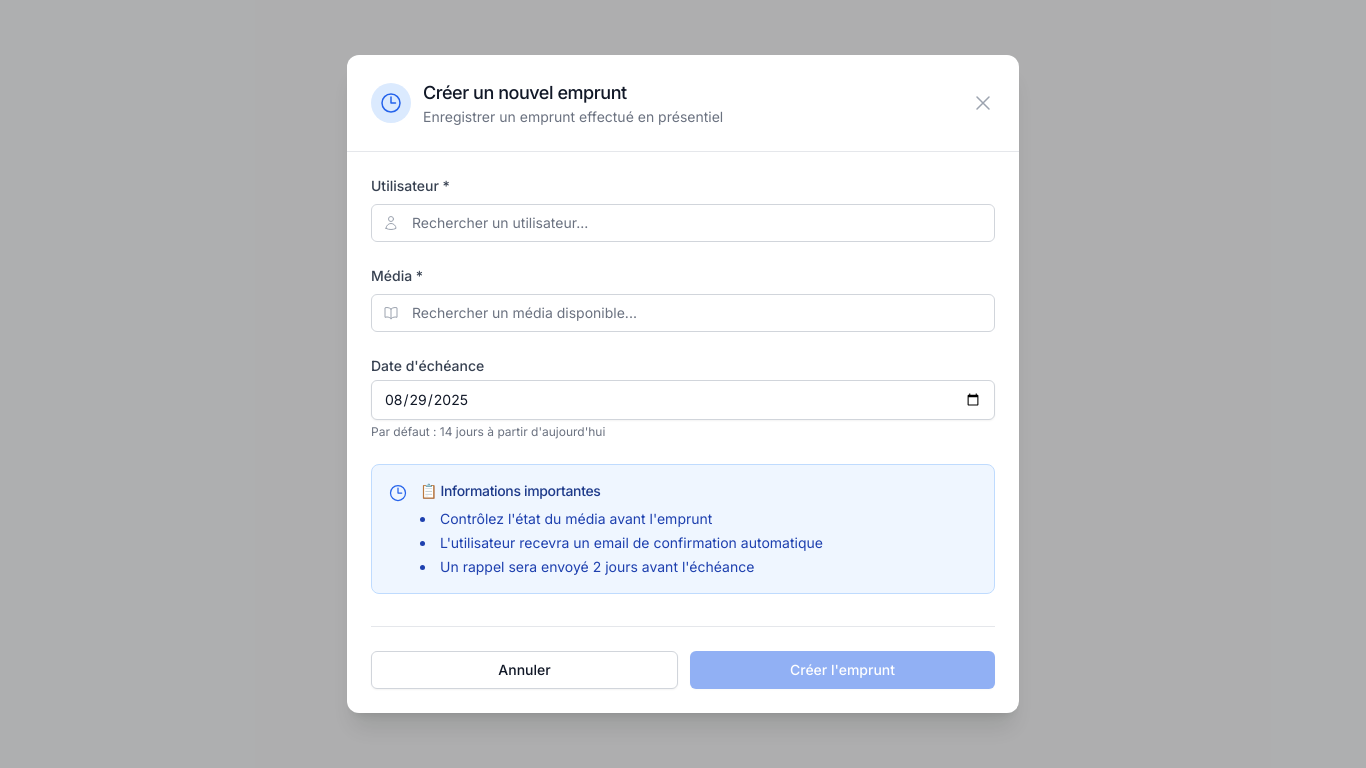
Test: CreateBorrowModal › Recherche d'utilisateurs › devrait afficher les résultats de recherche utilisateur
This screenshot has width=1366, height=768.
Type "John" into the field with placeholder "Rechercher un utilisateur...".
click(683, 223); type("John")  # box x1=371 y1=204 x2=995 y2=242
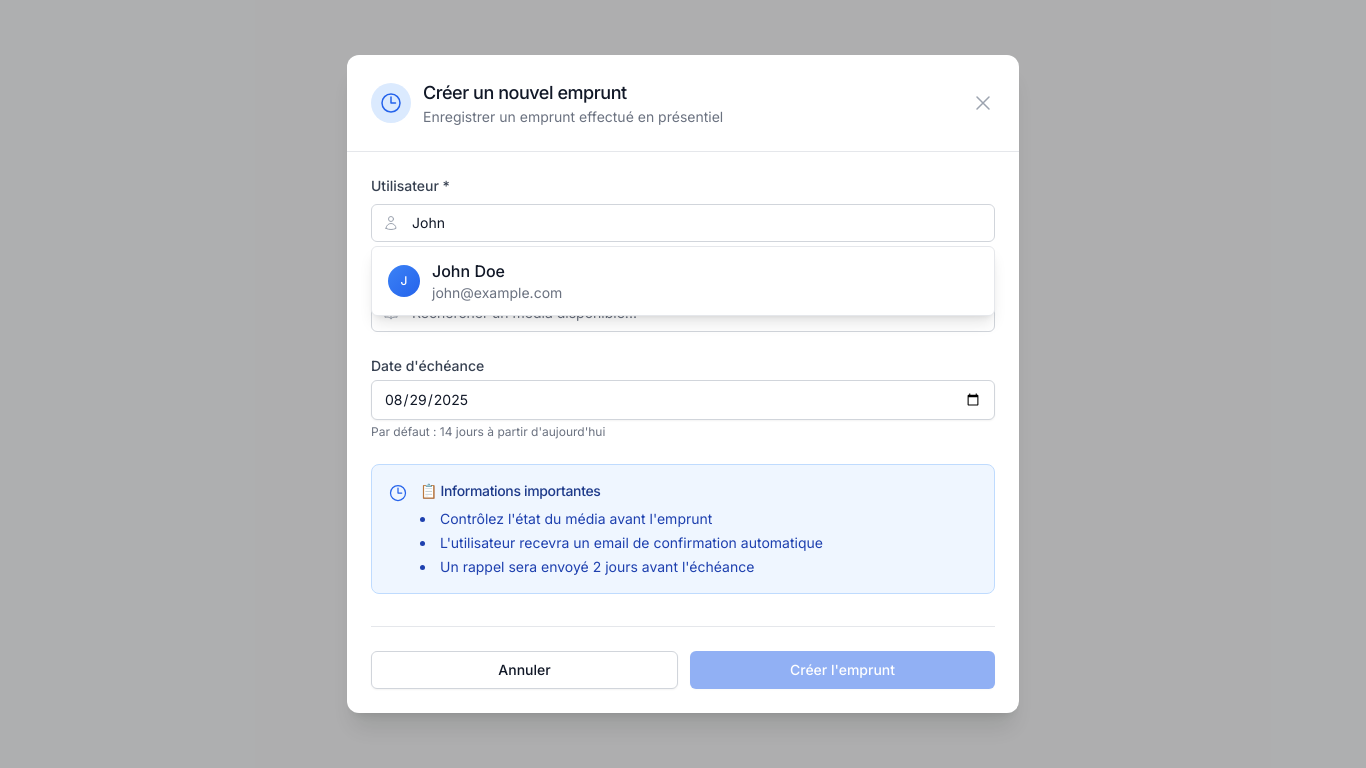
Expected: the text "John Doe" is shown, x1=432 y1=261 x2=505 y2=281
Expected: the text "john@example.com" is shown, x1=432 y1=283 x2=562 y2=303
